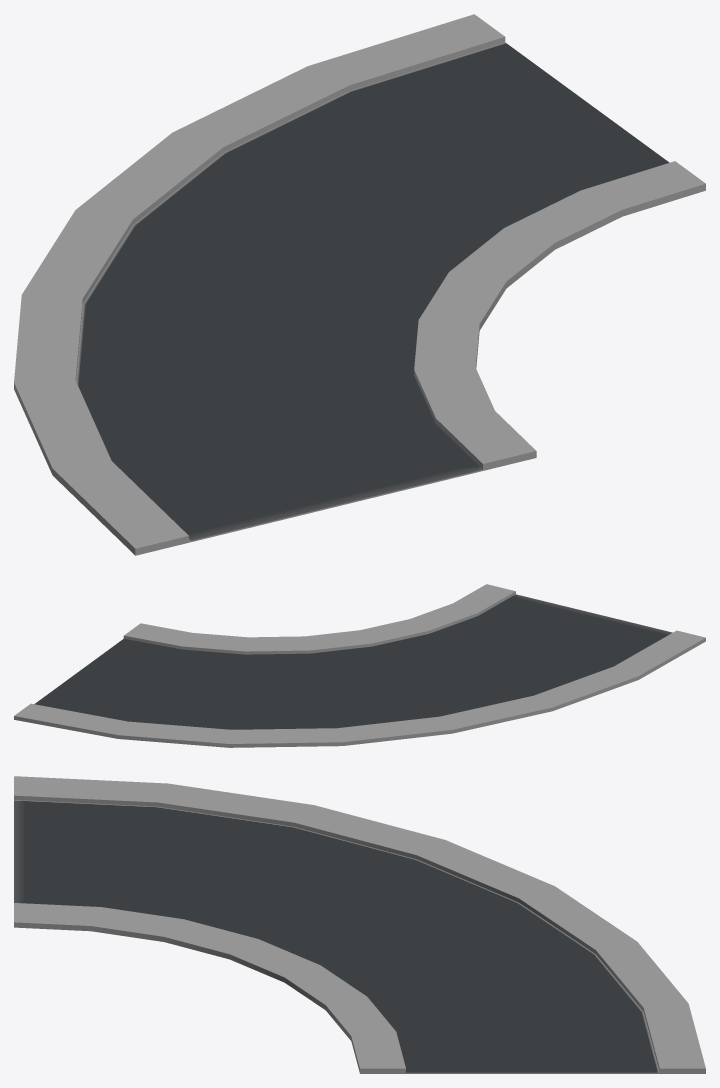
File: Road_Corner_Clear.fbx
The picture shows the model from 3 angles, top to bottom: view 1: azimuth 30°, elevation 25°; view 2: azimuth 150°, elevation 25°; view 3: azimuth 270°, elevation 25°; orthographic projection. The views are drawn at different scales.
Parts seen in each view (by area): view 1: Road_Corner_Clear; view 2: Road_Corner_Clear; view 3: Road_Corner_Clear.
Boxes of the visible parts, x1,y1,x2,y2 form: Road_Corner_Clear: (14, 14, 705, 555); Road_Corner_Clear: (14, 584, 705, 747); Road_Corner_Clear: (14, 776, 705, 1073).
Bounding box in the file's own units: 1200 × 10 × 1200.
